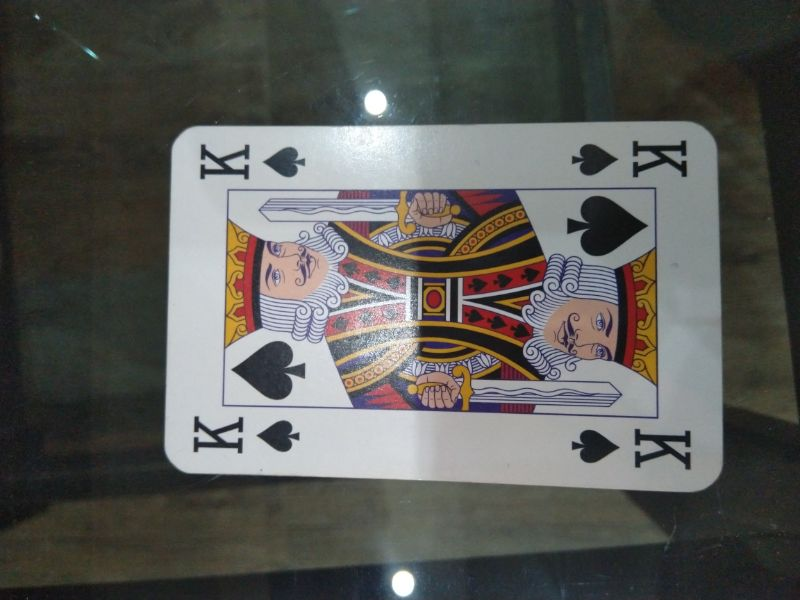Ks: (567, 423, 699, 474), (566, 134, 695, 185), (186, 409, 306, 461), (193, 137, 312, 188)
